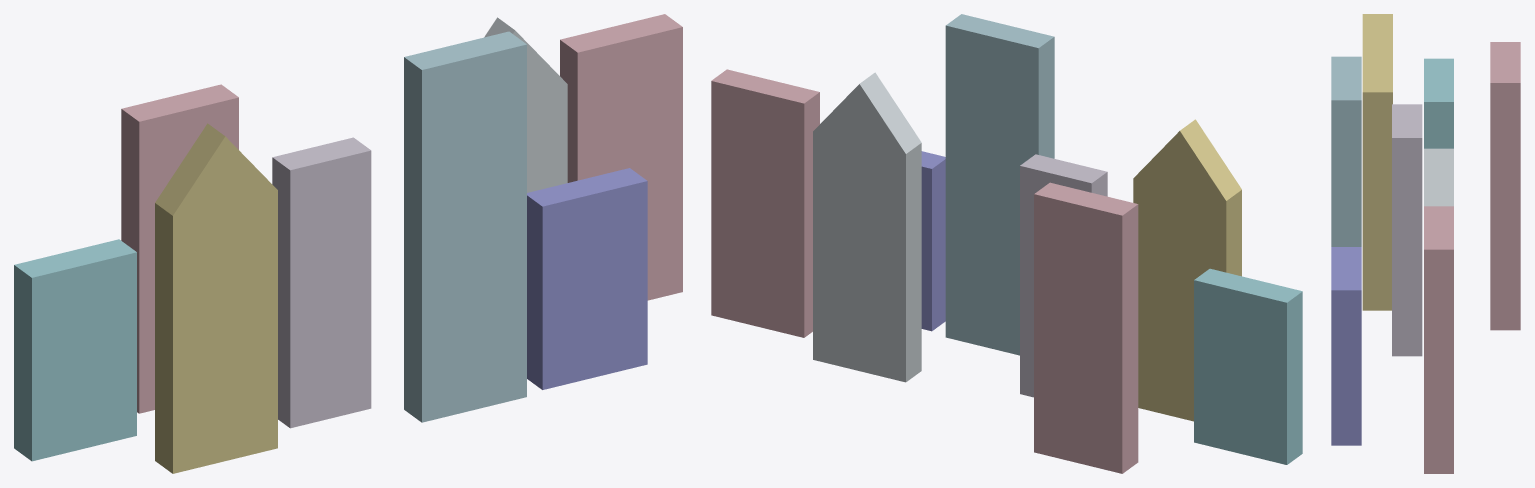
File: city.dae
3 renders of one model, left to right at view 1: azimuth 30°, elevation 25°; view 2: azimuth 150°, elevation 25°; view 3: azimuth 270°, elevation 25°, orthographic. The views are drawn at different scales.
Parts seen in each view (by area): view 1: Cube, Cube_003, Cube_002, Cube_006, Cube_001, Cube_007, Cube_005, Cube_004; view 2: Cube_004, Cube, Cube_005, Cube_007, Cube_003, Cube_006, Cube_002, Cube_001; view 3: Cube_003, Cube_005, Cube_007, Cube_002, Cube_001, Cube, Cube_006, Cube_004.
Part boxes in pixels (x1=…): Cube: x1=404, y1=31, x2=526, y2=422; Cube_003: x1=155, y1=123, x2=277, y2=473; Cube_002: x1=272, y1=137, x2=371, y2=428; Cube_006: x1=14, y1=239, x2=136, y2=461; Cube_001: x1=527, y1=168, x2=647, y2=389; Cube_007: x1=560, y1=14, x2=682, y2=300; Cube_005: x1=121, y1=84, x2=238, y2=413; Cube_004: x1=484, y1=17, x2=567, y2=192; Cube_004: x1=813, y1=72, x2=921, y2=382; Cube: x1=945, y1=14, x2=1054, y2=355; Cube_005: x1=1034, y1=182, x2=1138, y2=473; Cube_007: x1=711, y1=69, x2=819, y2=337; Cube_003: x1=1133, y1=119, x2=1241, y2=421; Cube_006: x1=1194, y1=268, x2=1302, y2=464; Cube_002: x1=1020, y1=154, x2=1107, y2=397; Cube_001: x1=921, y1=151, x2=945, y2=331; Cube_003: x1=1362, y1=14, x2=1392, y2=310; Cube_005: x1=1490, y1=42, x2=1520, y2=330; Cube_007: x1=1424, y1=206, x2=1453, y2=473; Cube_002: x1=1392, y1=104, x2=1422, y2=356; Cube_001: x1=1331, y1=247, x2=1361, y2=445; Cube: x1=1331, y1=56, x2=1361, y2=246; Cube_006: x1=1424, y1=58, x2=1453, y2=148; Cube_004: x1=1424, y1=148, x2=1453, y2=206.
Size of the model in its own units: 12.38 by 3.68 by 6.66.
